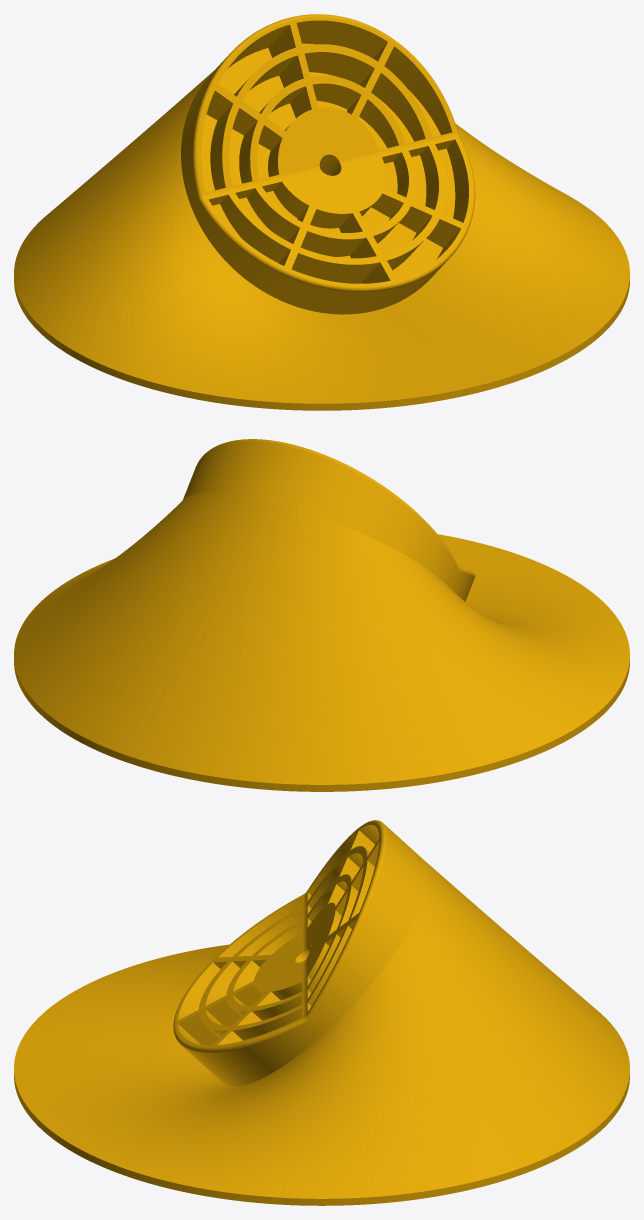
File: HuePlayStand-33.glb
The picture shows the model from 3 angles, top to bottom: view 1: azimuth 30°, elevation 25°; view 2: azimuth 150°, elevation 25°; view 3: azimuth 270°, elevation 25°; orthographic projection.
Bounding box in the file's own units: 80 × 34.39 × 79.99.
